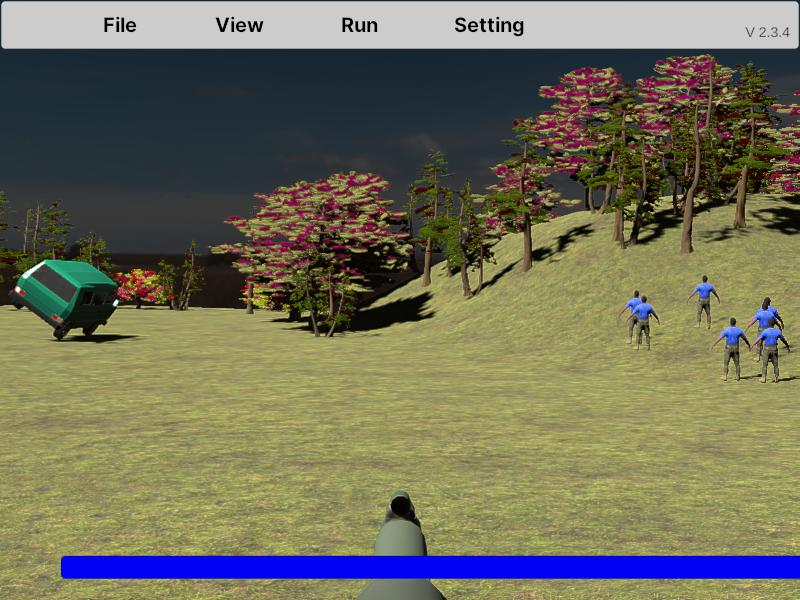Human: (746, 298, 785, 366), (713, 317, 752, 382), (753, 318, 791, 383), (688, 274, 720, 330), (629, 295, 660, 352), (618, 290, 647, 345)
car: (12, 259, 119, 341)
